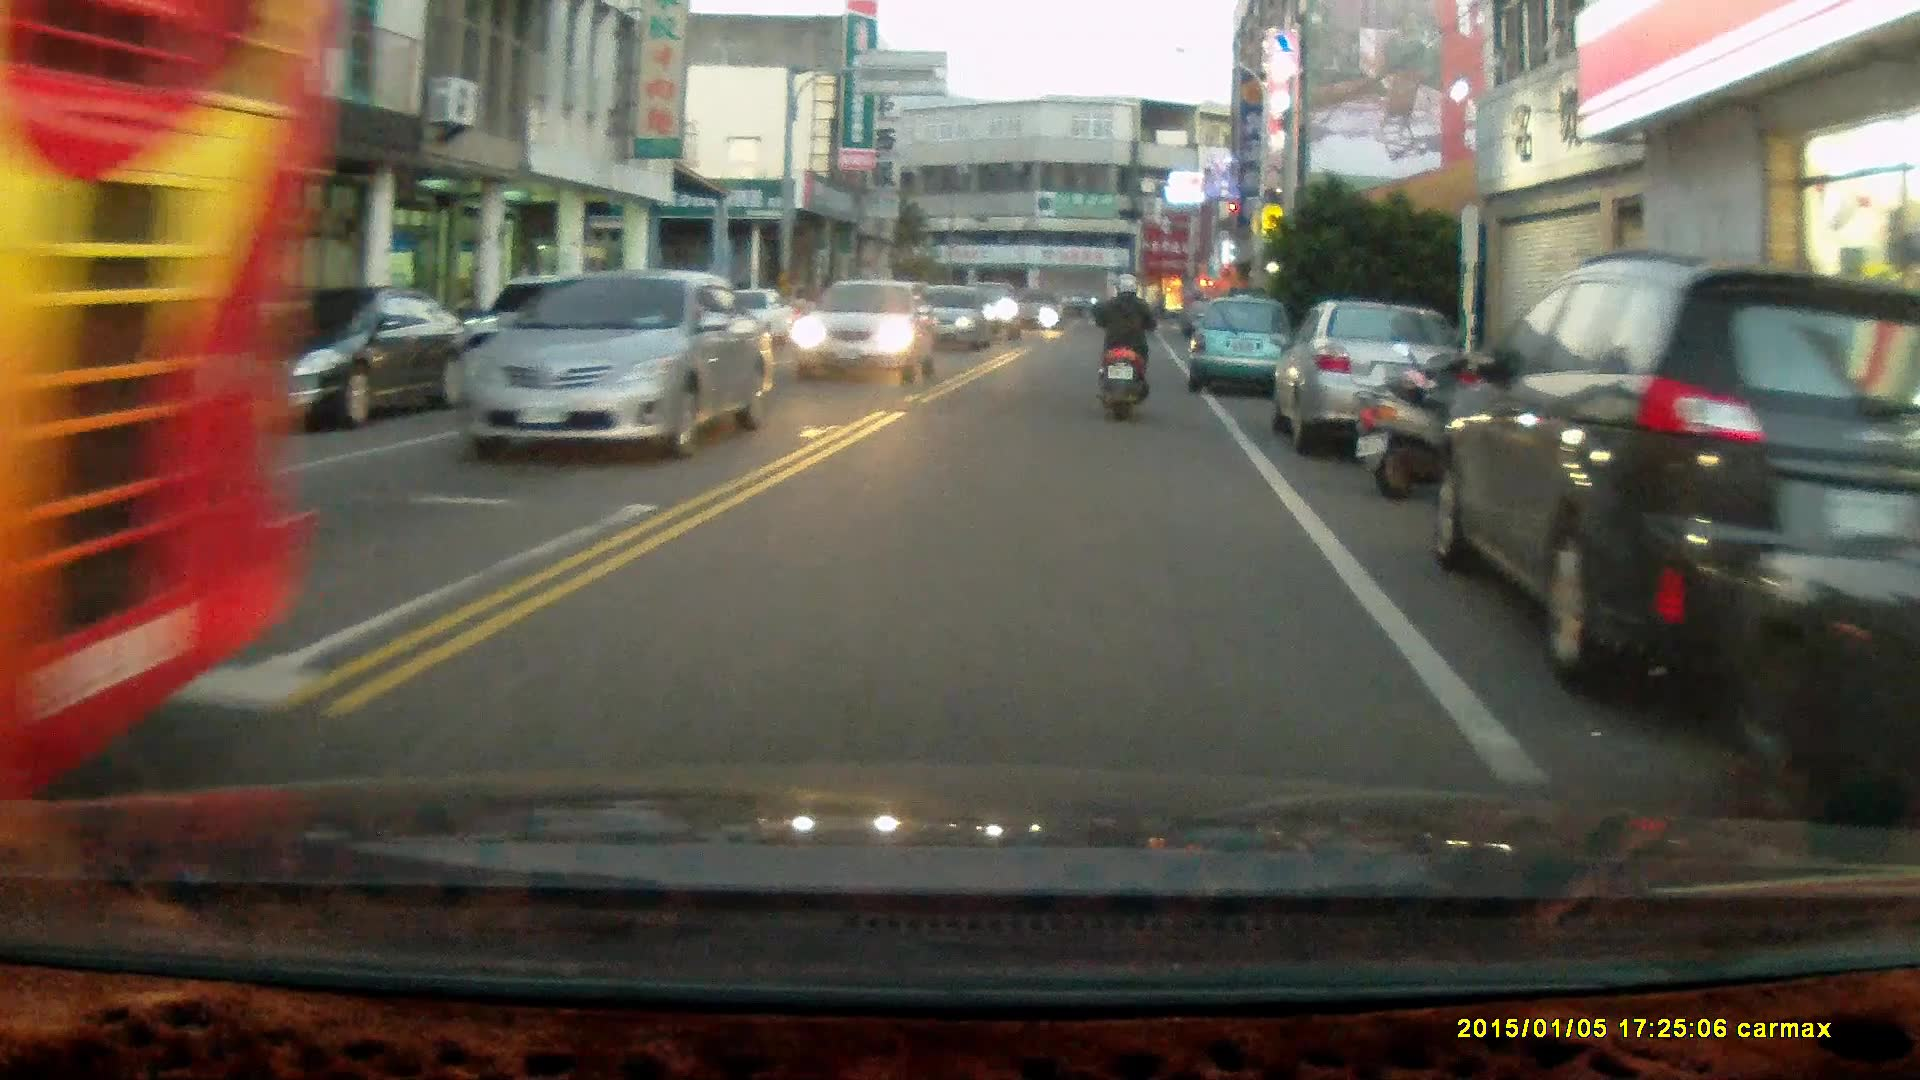rider: (1089, 270, 1151, 423)
vehicle: (1, 9, 332, 803), (1433, 253, 1920, 702), (452, 269, 772, 462), (1713, 517, 1920, 805), (211, 284, 473, 439), (1278, 302, 1462, 466), (793, 282, 938, 386), (1189, 293, 1299, 397), (901, 286, 989, 357)
